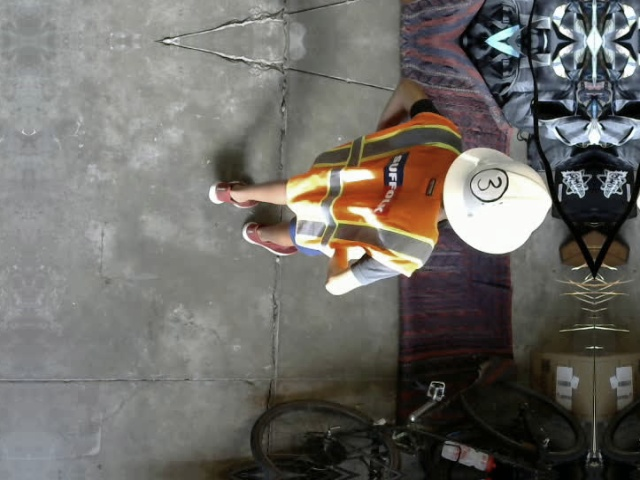three: (469, 167, 508, 201)
